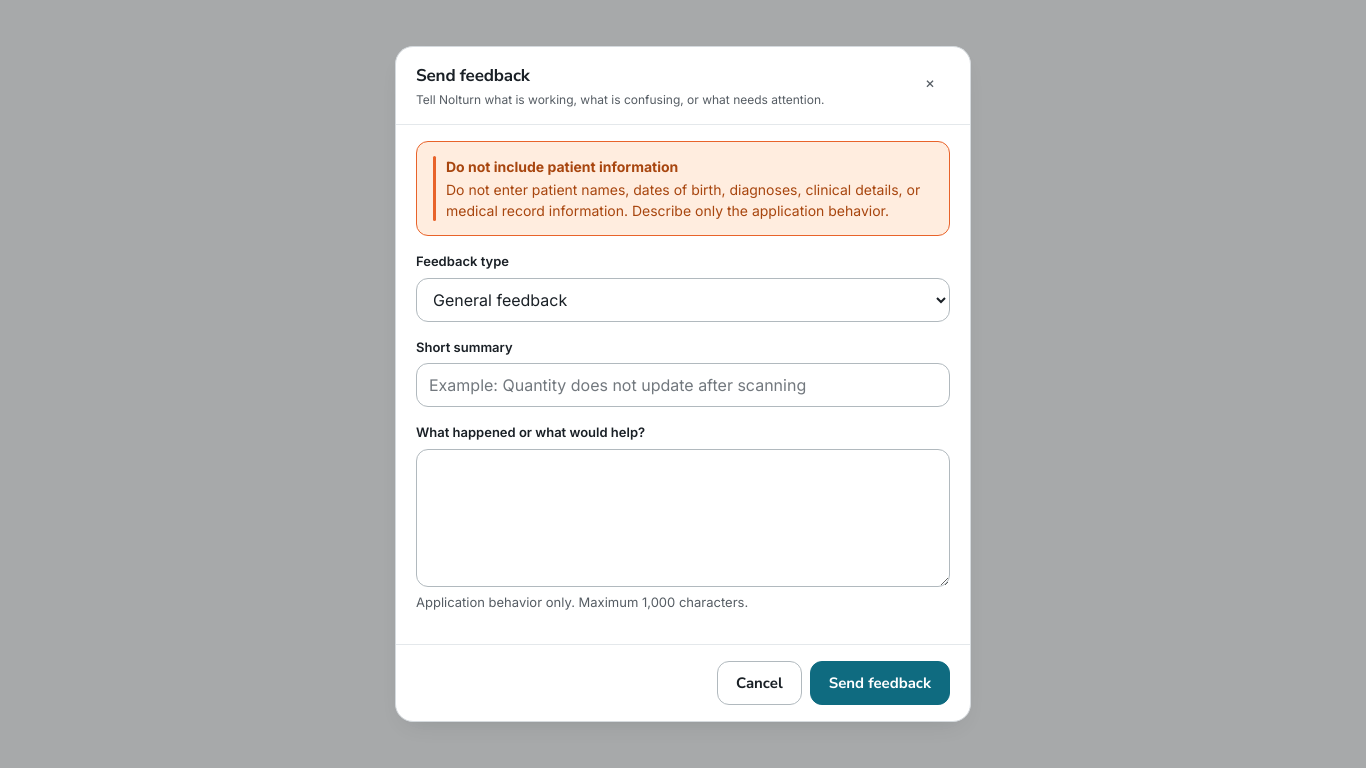
Test case: FeedbackDialog › shows the Nolturn reference after a successful submission
Type "Quantity does not update" into the field labelled "Short summary" at (683, 385), box [416,363,950,407]
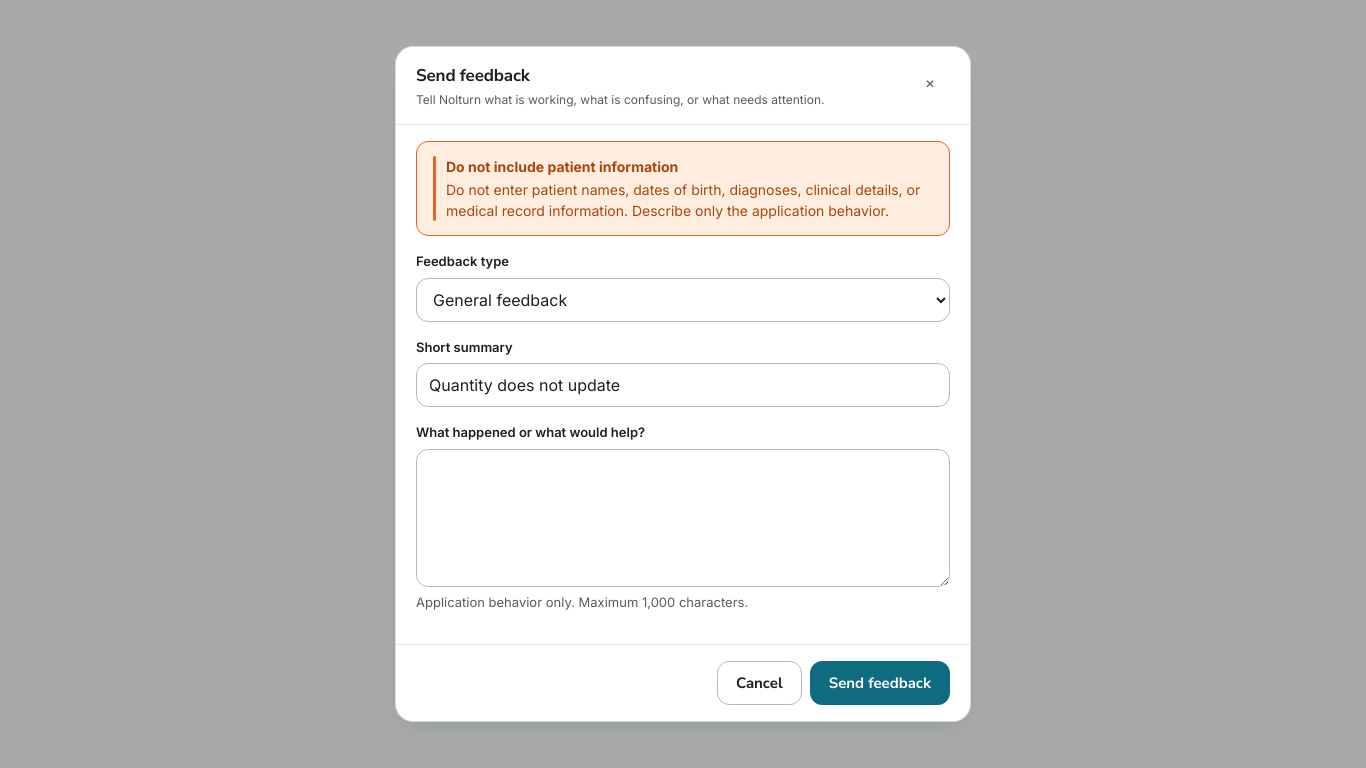
Type "The quantity remains unchanged after scanning an item." into the text box labelled "What happened or what would help?" at (683, 518), box [416,449,950,587]
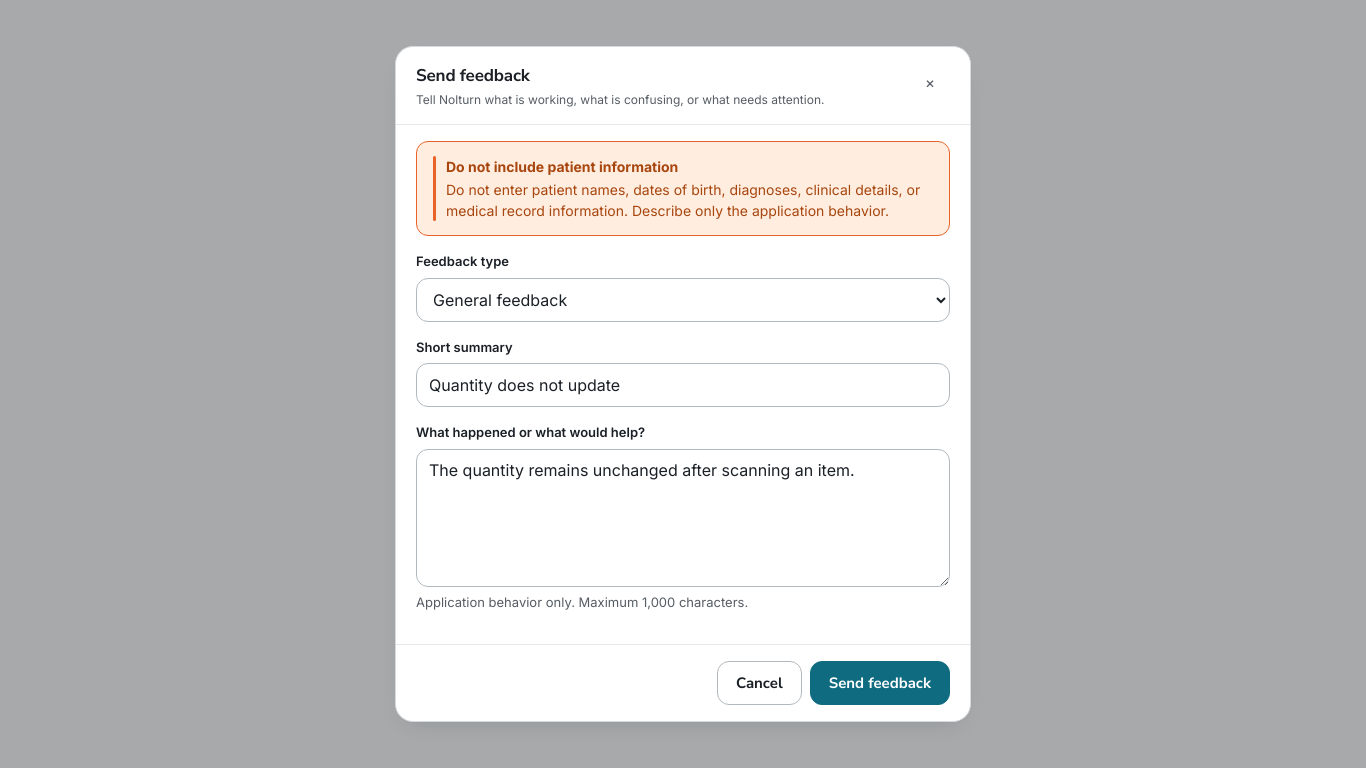
Click the button "Send feedback" at (880, 683), box [810,661,950,705]
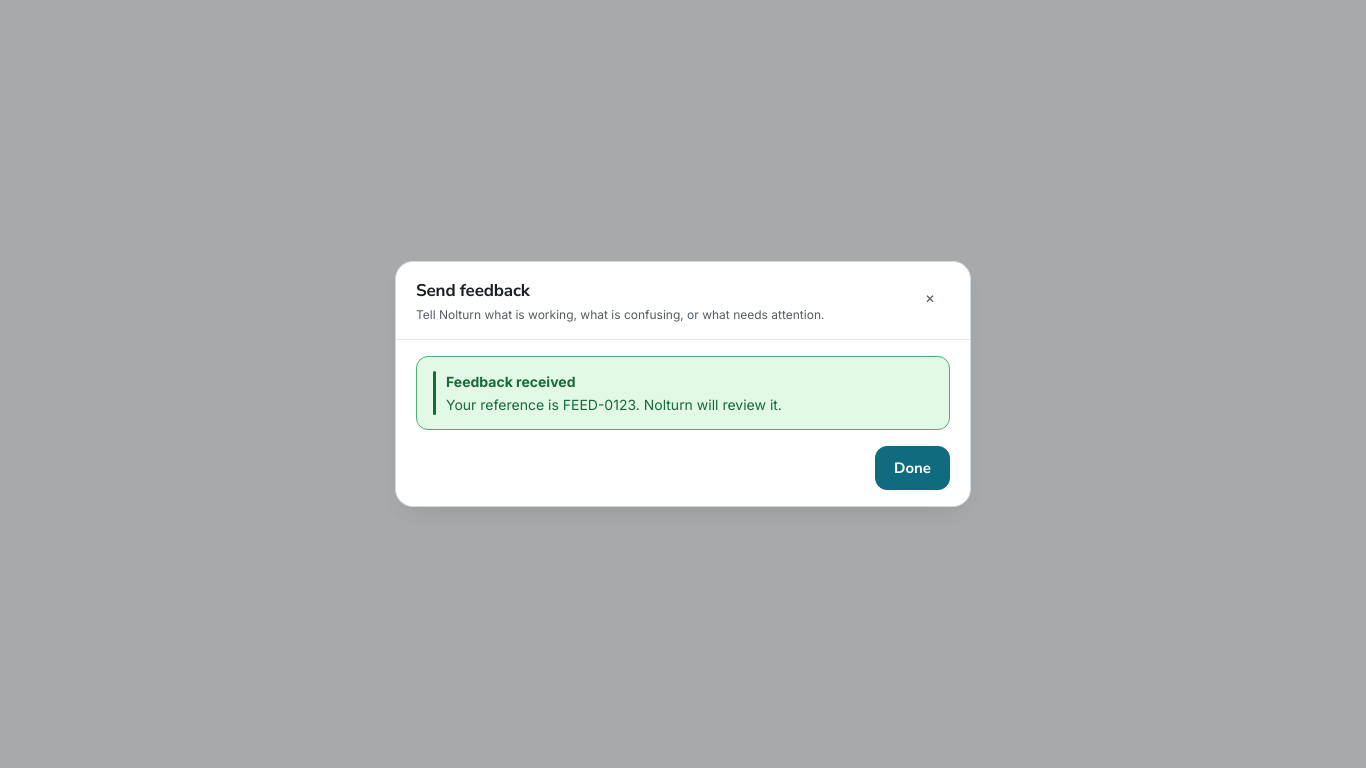
Expected: the text "Your reference is FEED-0123. Nolturn will review it." is shown, [446,394,782,415]
